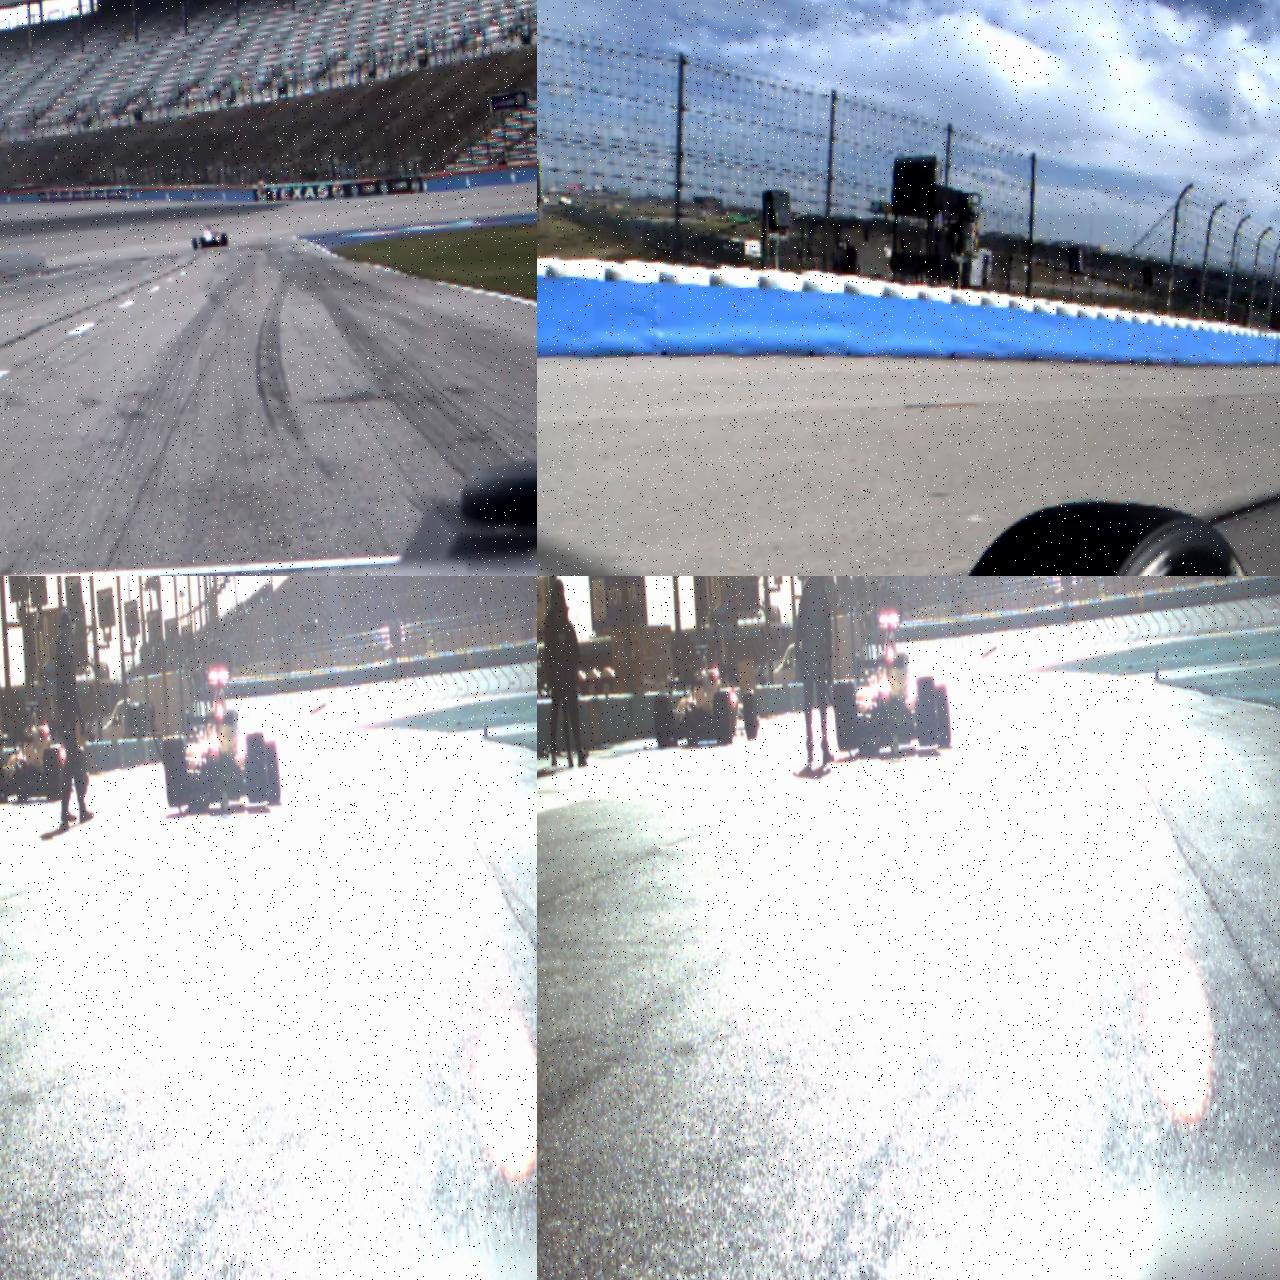AV: (159, 665, 282, 811), (830, 610, 952, 754), (649, 642, 760, 749), (0, 697, 89, 804), (191, 223, 229, 250)
Wheel: (833, 680, 858, 751), (163, 736, 188, 806), (245, 731, 268, 802), (917, 676, 938, 745), (41, 745, 66, 802), (712, 692, 734, 745), (933, 686, 952, 748), (264, 740, 281, 804), (653, 695, 674, 748), (742, 689, 758, 740), (222, 232, 227, 246), (191, 234, 197, 248)
